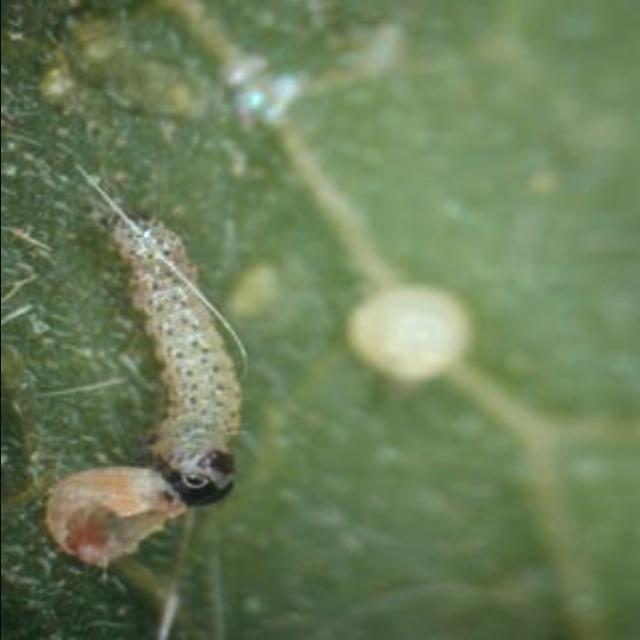Cotton bollworm: (97, 198, 279, 520)
